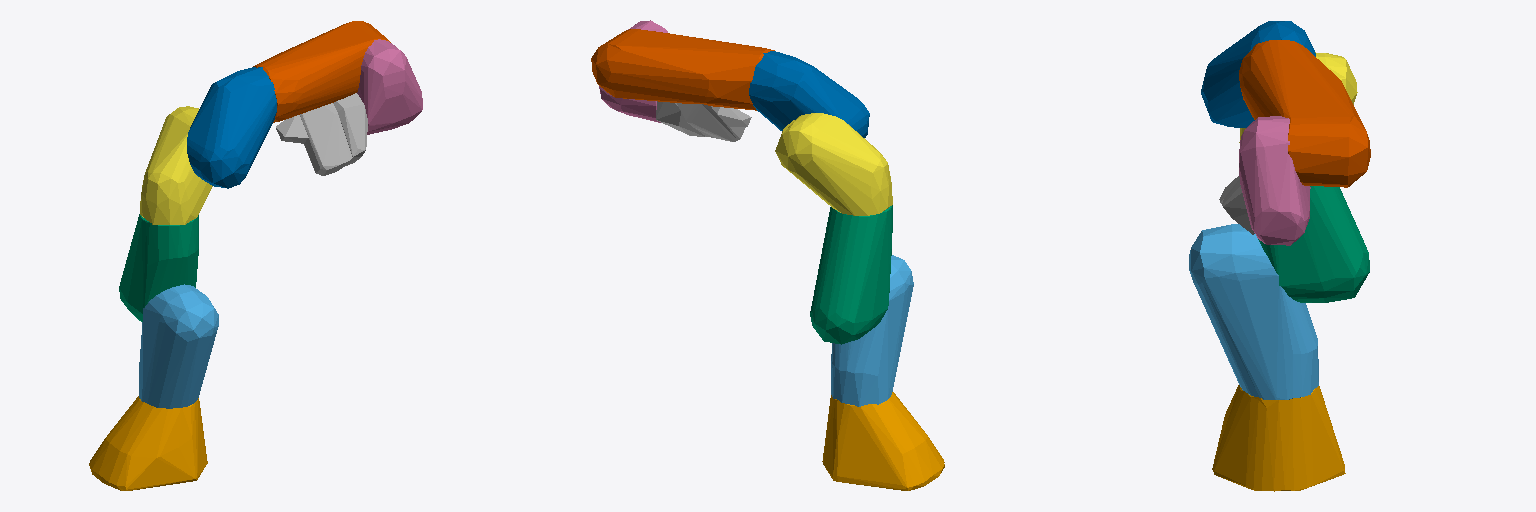
robot.urdf — panda:
<?xml version='1.0' encoding='ASCII'?>
<robot name="panda">
  <link name="panda_link0">
    <inertial>
      <origin xyz="-0.041018 -0.00014 0.049974" rpy="0.0 -0.0 0.0"/>
      <mass value="0.629769"/>
      <inertia ixx="0.00315" ixy="8.2904e-07" ixz="0.0015" iyy="0.00388" iyz="8.2299e-06" izz="0.004285"/>
    </inertial>
    <visual>
      <geometry>
        <mesh filename="panda_link0.obj"/>
      </geometry>
    </visual>
    <collision>
      <geometry>
        <mesh filename="panda_link0.obj"/>
      </geometry>
    </collision>
  </link>
  <link name="panda_link1">
    <inertial>
      <origin xyz="0.003875 0.002081 -0.04762" rpy="0.0 -0.0 0.0"/>
      <mass value="4.970684"/>
      <inertia ixx="0.70337" ixy="-0.000139" ixz="0.006772" iyy="0.70661" iyz="0.019169" izz="0.009117"/>
    </inertial>
    <visual>
      <geometry>
        <mesh filename="panda_link1.obj"/>
      </geometry>
    </visual>
    <collision>
      <geometry>
        <mesh filename="panda_link1.obj"/>
      </geometry>
    </collision>
  </link>
  <link name="panda_link2">
    <inertial>
      <origin xyz="-0.003141 -0.02872 0.003495" rpy="0.0 -0.0 0.0"/>
      <mass value="0.646926"/>
      <inertia ixx="0.007962" ixy="-0.003925" ixz="0.010254" iyy="0.02811" iyz="0.000704" izz="0.025995"/>
    </inertial>
    <visual>
      <geometry>
        <mesh filename="panda_link2.obj"/>
      </geometry>
    </visual>
    <collision>
      <geometry>
        <mesh filename="panda_link2.obj"/>
      </geometry>
    </collision>
  </link>
  <link name="panda_link3">
    <inertial>
      <origin xyz="0.027518 0.039252 -0.066502" rpy="0.0 -0.0 0.0"/>
      <mass value="3.228604"/>
      <inertia ixx="0.037242" ixy="-0.004761" ixz="-0.011396" iyy="0.036155" iyz="-0.012805" izz="0.01083"/>
    </inertial>
    <visual>
      <geometry>
        <mesh filename="panda_link3.obj"/>
      </geometry>
    </visual>
    <collision>
      <geometry>
        <mesh filename="panda_link3.obj"/>
      </geometry>
    </collision>
  </link>
  <link name="panda_link4">
    <inertial>
      <origin xyz="-0.05317 0.104419 0.027454" rpy="0.0 -0.0 0.0"/>
      <mass value="3.587895"/>
      <inertia ixx="0.025853" ixy="0.007796" ixz="-0.001332" iyy="0.019552" iyz="0.008641" izz="0.028323"/>
    </inertial>
    <visual>
      <geometry>
        <mesh filename="panda_link4.obj"/>
      </geometry>
    </visual>
    <collision>
      <geometry>
        <mesh filename="panda_link4.obj"/>
      </geometry>
    </collision>
  </link>
  <link name="panda_link5">
    <inertial>
      <origin xyz="-0.011953 0.041065 -0.038437" rpy="0.0 -0.0 0.0"/>
      <mass value="1.225946"/>
      <inertia ixx="0.035549" ixy="-0.002117" ixz="-0.004037" iyy="0.029474" iyz="0.000229" izz="0.008627"/>
    </inertial>
    <visual>
      <geometry>
        <mesh filename="panda_link5.obj"/>
      </geometry>
    </visual>
    <collision>
      <geometry>
        <mesh filename="panda_link5.obj"/>
      </geometry>
    </collision>
  </link>
  <link name="panda_link6">
    <inertial>
      <origin xyz="0.060149 -0.014117 -0.010517" rpy="0.0 -0.0 0.0"/>
      <mass value="1.666555"/>
      <inertia ixx="0.001964" ixy="0.000109" ixz="-0.001158" iyy="0.004354" iyz="0.000341" izz="0.005433"/>
    </inertial>
    <visual>
      <geometry>
        <mesh filename="panda_link6.obj"/>
      </geometry>
    </visual>
    <collision>
      <geometry>
        <mesh filename="panda_link6.obj"/>
      </geometry>
    </collision>
  </link>
  <link name="panda_link7">
    <inertial>
      <origin xyz="0.010517 -0.004252 0.061597" rpy="0.0 -0.0 0.0"/>
      <mass value="0.735522"/>
      <inertia ixx="0.012516" ixy="-0.000428" ixz="-0.001196" iyy="0.010027" iyz="-0.000741" izz="0.004815"/>
    </inertial>
    <visual>
      <geometry>
        <mesh filename="panda_link7.obj"/>
      </geometry>
    </visual>
    <collision>
      <geometry>
        <mesh filename="panda_link7.obj"/>
      </geometry>
    </collision>
  </link>
  <link name="panda_hand">
    <inertial>
      <origin xyz="-0.01 0.0 0.03" rpy="0.0 -0.0 0.0"/>
      <mass value="0.73"/>
      <inertia ixx="0.002477" ixy="-4.326e-07" ixz="9.807e-08" iyy="0.000498" iyz="-4.494e-05" izz="0.002242"/>
    </inertial>
  </link>
  <link name="panda_leftfinger">
    <inertial>
      <origin xyz="0.0 0.013756 0.024597" rpy="0.0 -0.0 0.0"/>
      <mass value="0.015"/>
      <inertia ixx="4.906e-06" ixy="3.271e-10" ixz="-1.975e-09" iyy="4.76e-06" iyz="9.483e-07" izz="1.151e-06"/>
    </inertial>
  </link>
  <link name="panda_rightfinger">
    <inertial>
      <origin xyz="0.0 -0.013756 0.024597" rpy="0.0 -0.0 0.0"/>
      <mass value="0.015"/>
      <inertia ixx="4.906e-06" ixy="3.271e-10" ixz="-1.975e-09" iyy="4.76e-06" iyz="9.483e-07" izz="1.151e-06"/>
    </inertial>
  </link>
  <link name="panda_tool"/>
  <joint name="panda_joint1" type="revolute">
    <parent link="panda_link0"/>
    <child link="panda_link1"/>
    <origin xyz="0.0 0.0 0.333" rpy="0.0 -0.0 0.0"/>
    <axis xyz="0.0 0.0 1.0"/>
    <limit effort="87.0" velocity="2.175" lower="-2.8973" upper="2.8973"/>
    <dynamics damping="10.0"/>
  </joint>
  <joint name="panda_joint2" type="revolute">
    <parent link="panda_link1"/>
    <child link="panda_link2"/>
    <origin xyz="0.0 0.0 0.0" rpy="-1.57079632679 -0.0 0.0"/>
    <axis xyz="0.0 0.0 1.0"/>
    <limit effort="87.0" velocity="2.175" lower="-1.7628" upper="1.7628"/>
    <dynamics damping="10.0"/>
  </joint>
  <joint name="panda_joint3" type="revolute">
    <parent link="panda_link2"/>
    <child link="panda_link3"/>
    <origin xyz="0.0 -0.316 0.0" rpy="1.57079632679 -0.0 0.0"/>
    <axis xyz="0.0 0.0 1.0"/>
    <limit effort="87.0" velocity="2.175" lower="-2.8973" upper="2.8973"/>
    <dynamics damping="10.0"/>
  </joint>
  <joint name="panda_joint4" type="revolute">
    <parent link="panda_link3"/>
    <child link="panda_link4"/>
    <origin xyz="0.0825 0.0 0.0" rpy="1.57079632679 -0.0 0.0"/>
    <axis xyz="0.0 0.0 1.0"/>
    <limit effort="87.0" velocity="2.175" lower="-3.0718" upper="-0.0698"/>
    <dynamics damping="10.0"/>
  </joint>
  <joint name="panda_joint5" type="revolute">
    <parent link="panda_link4"/>
    <child link="panda_link5"/>
    <origin xyz="-0.0825 0.384 0.0" rpy="-1.57079632679 -0.0 0.0"/>
    <axis xyz="0.0 0.0 1.0"/>
    <limit effort="12.0" velocity="2.61" lower="-2.8973" upper="2.8973"/>
    <dynamics damping="10.0"/>
  </joint>
  <joint name="panda_joint6" type="revolute">
    <parent link="panda_link5"/>
    <child link="panda_link6"/>
    <origin xyz="0.0 0.0 0.0" rpy="1.57079632679 -0.0 0.0"/>
    <axis xyz="0.0 0.0 1.0"/>
    <limit effort="12.0" velocity="2.61" lower="-0.0175" upper="3.7525"/>
    <dynamics damping="10.0"/>
  </joint>
  <joint name="panda_joint7" type="revolute">
    <parent link="panda_link6"/>
    <child link="panda_link7"/>
    <origin xyz="0.088 0.0 0.0" rpy="1.57079632679 -0.0 0.0"/>
    <axis xyz="0.0 0.0 1.0"/>
    <limit effort="12.0" velocity="2.61" lower="-2.8973" upper="2.8973"/>
    <dynamics damping="10.0"/>
  </joint>
  <joint name="panda_hand_joint" type="fixed">
    <parent link="panda_link7"/>
    <child link="panda_hand"/>
    <origin xyz="0.0 0.0 0.107" rpy="0.0 -0.0 -0.785398163397"/>
    <axis xyz="1.0 0.0 0.0"/>
  </joint>
  <joint name="panda_hand_tool_joint" type="fixed">
    <parent link="panda_hand"/>
    <child link="panda_tool"/>
    <origin xyz="0.0 0.0 0.1034" rpy="0.0 -0.0 0.0"/>
    <axis xyz="1.0 0.0 0.0"/>
  </joint>
  <joint name="panda_finger_joint1" type="fixed">
    <parent link="panda_hand"/>
    <child link="panda_leftfinger"/>
    <origin xyz="0.0 0.0 0.0584" rpy="0.0 -0.0 0.0"/>
    <axis xyz="0.0 1.0 0.0"/>
    <limit effort="20.0" velocity="0.2" lower="0.0" upper="0.04"/>
    <dynamics damping="10.0"/>
  </joint>
  <joint name="panda_finger_joint2" type="fixed">
    <parent link="panda_leftfinger"/>
    <child link="panda_rightfinger"/>
    <origin xyz="0.0 0.0 0.0" rpy="0.0 -0.0 0.0"/>
    <axis xyz="0.0 -1.0 0.0"/>
    <limit effort="20.0" velocity="0.2" lower="0.0" upper="0.04"/>
    <dynamics damping="10.0"/>
  </joint>
</robot>

--- Facts derived from the render (not from the file) ---
3 views of the same robot in one strip: view 1: azimuth 30°, elevation 25°; view 2: azimuth 150°, elevation 25°; view 3: azimuth 270°, elevation 25° (orthographic).
Model panda with 12 links and 11 joints (7 revolute, 4 fixed), rooted at panda_link0, posed joints at zero except 1 at the middle of their limits (panda_joint4 = -1.57).
Visible links, largest first — view 1: panda_link0, panda_link1, panda_link4, panda_link5, panda_link2, panda_link3, panda_link7, panda_link6; view 2: panda_link5, panda_link2, panda_link0, panda_link3, panda_link1, panda_link4, panda_link7, panda_link6; view 3: panda_link1, panda_link5, panda_link0, panda_link2, panda_link6, panda_link4, panda_link7, panda_link3.
Link boxes in pixels (left/top/right/bottom): panda_link0: left=89, top=396, right=207, bottom=490; panda_link1: left=139, top=284, right=218, bottom=408; panda_link4: left=187, top=67, right=276, bottom=188; panda_link5: left=253, top=21, right=390, bottom=122; panda_link2: left=119, top=214, right=198, bottom=321; panda_link3: left=140, top=106, right=212, bottom=224; panda_link7: left=276, top=93, right=367, bottom=175; panda_link6: left=357, top=39, right=422, bottom=134; panda_link5: left=591, top=29, right=774, bottom=110; panda_link2: left=810, top=205, right=892, bottom=344; panda_link0: left=822, top=392, right=944, bottom=490; panda_link3: left=775, top=113, right=892, bottom=215; panda_link1: left=831, top=255, right=913, bottom=406; panda_link4: left=749, top=51, right=869, bottom=137; panda_link7: left=656, top=101, right=751, bottom=141; panda_link6: left=599, top=20, right=667, bottom=122; panda_link1: left=1189, top=224, right=1318, bottom=399; panda_link5: left=1239, top=40, right=1370, bottom=187; panda_link0: left=1212, top=385, right=1345, bottom=491; panda_link2: left=1258, top=186, right=1369, bottom=302; panda_link6: left=1239, top=116, right=1310, bottom=245; panda_link4: left=1201, top=21, right=1315, bottom=127; panda_link7: left=1219, top=176, right=1254, bottom=234; panda_link3: left=1239, top=52, right=1357, bottom=142.
Bounding box of the posed robot: 0.7058 × 0.2637 × 0.7914 m (x, y, z).
8 mesh visuals loaded from 8 distinct referenced files (8 OBJ).